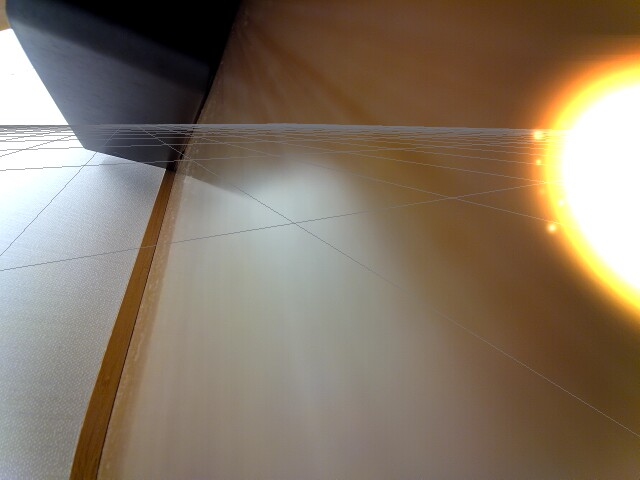fire: (542, 58, 639, 321)
